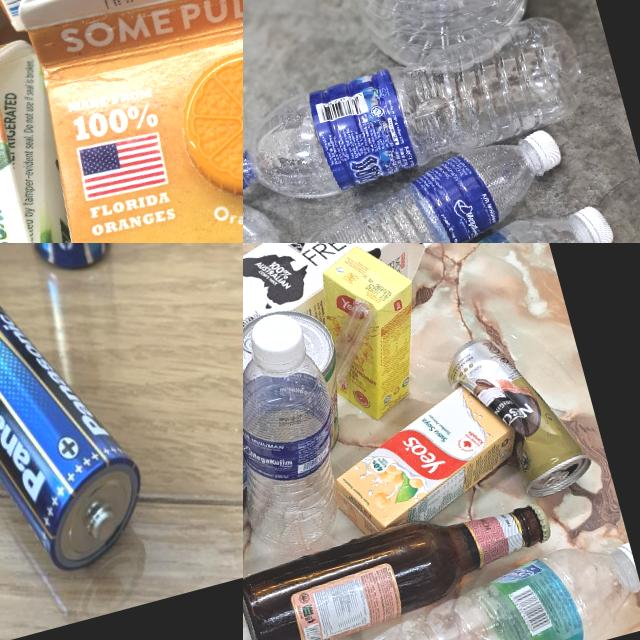aba de lata: (538, 472, 570, 488)
bateria: (0, 268, 161, 594)
caixinha: (0, 0, 243, 243), (0, 0, 210, 243), (311, 377, 530, 543), (299, 243, 442, 428), (243, 243, 449, 352)
garrafa de vidro: (243, 484, 566, 640)
garrafa plástica: (243, 21, 592, 208), (340, 532, 640, 640), (299, 134, 559, 243), (317, 0, 604, 98), (243, 342, 367, 567), (333, 203, 617, 243)
lata: (440, 318, 597, 512), (243, 300, 359, 469)
tampa plástica: (164, 33, 243, 218), (246, 308, 310, 376), (522, 121, 568, 180), (572, 195, 622, 243), (616, 541, 640, 595), (243, 148, 253, 199)
